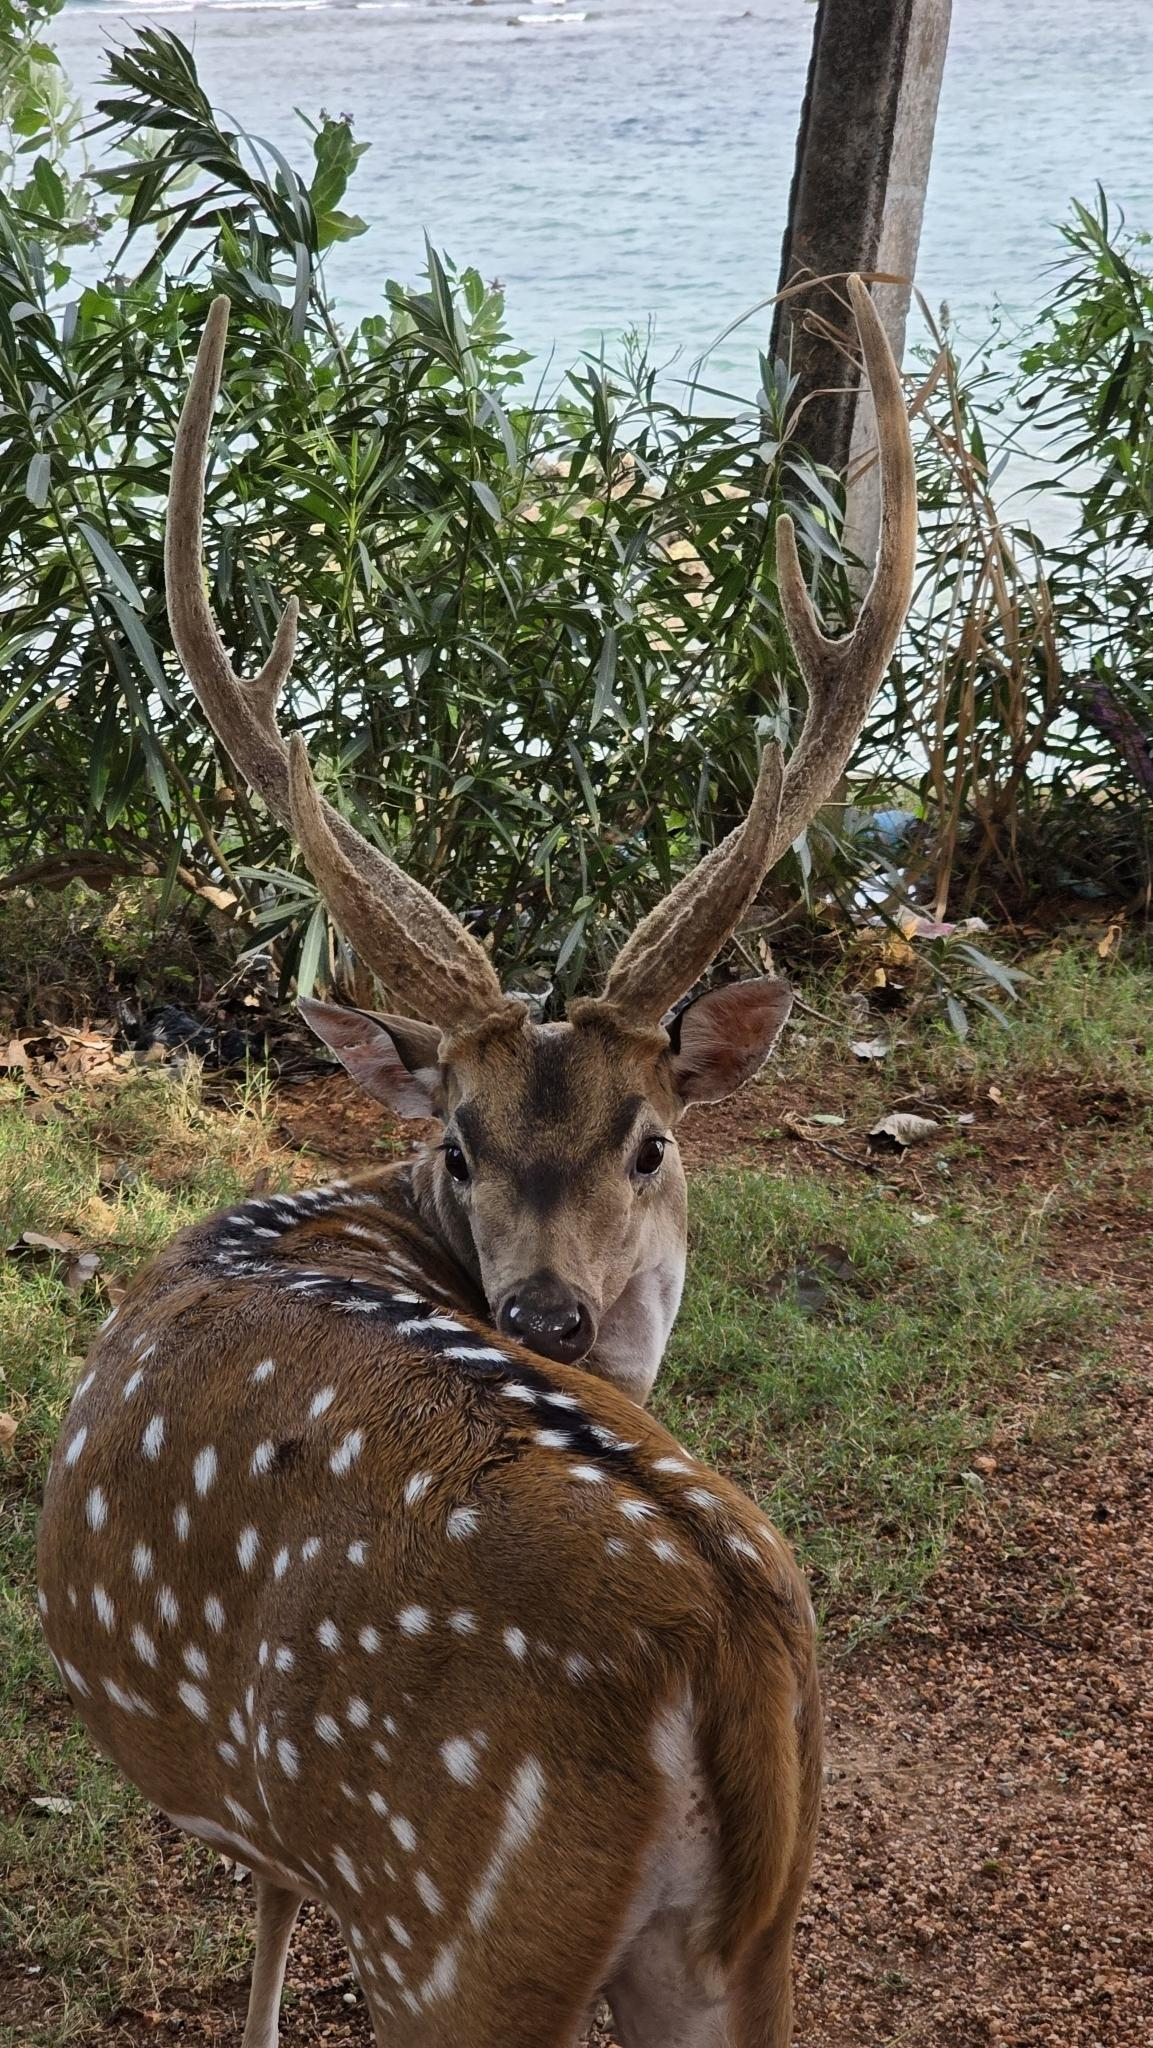Deer: (39, 276, 915, 2047)
